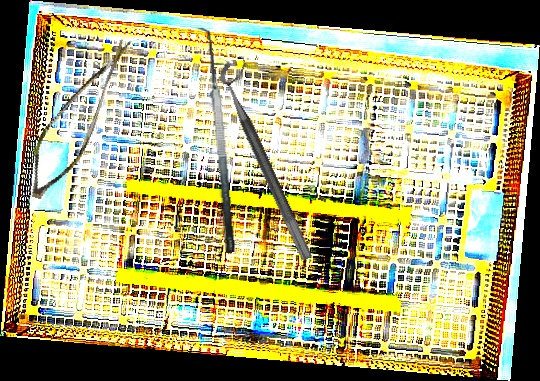Fixation Ring: (214, 54, 329, 262)
Micro Scissor: (20, 21, 133, 211)
Spatula Surgical: (190, 26, 238, 255)
